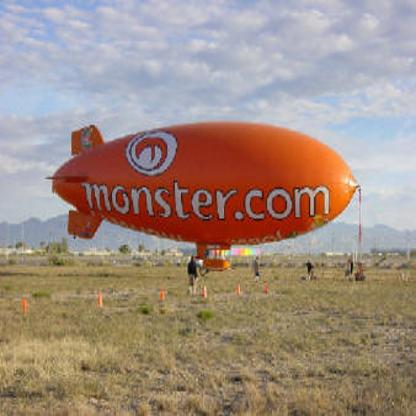Airship: (47, 123, 362, 269)
